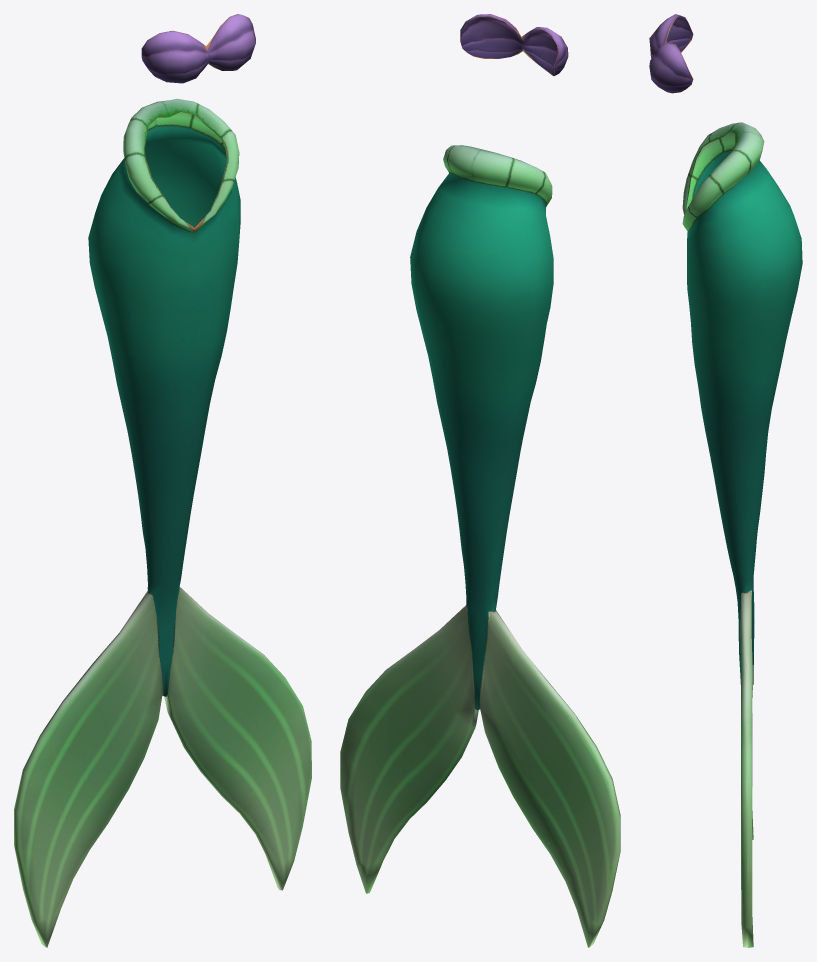
The model's file is tail_ariel.glb.
3 renders of one model, left to right at view 1: azimuth 30°, elevation 25°; view 2: azimuth 150°, elevation 25°; view 3: azimuth 270°, elevation 25°, orthographic. The views are drawn at different scales.
Parts seen in each view (by area): view 1: Object_2, Object_3; view 2: Object_2, Object_3; view 3: Object_2, Object_3.
Part boxes in pixels (x1,y1,x2,y2): Object_2: [88, 14, 255, 696]; Object_3: [14, 587, 311, 947]; Object_2: [410, 14, 568, 710]; Object_3: [340, 605, 620, 947]; Object_2: [649, 14, 802, 684]; Object_3: [740, 592, 753, 947].
Bounding box in the file's own units: 5.63 × 16.8 × 2.7.
Materials: 2 (2 with a texture image).
